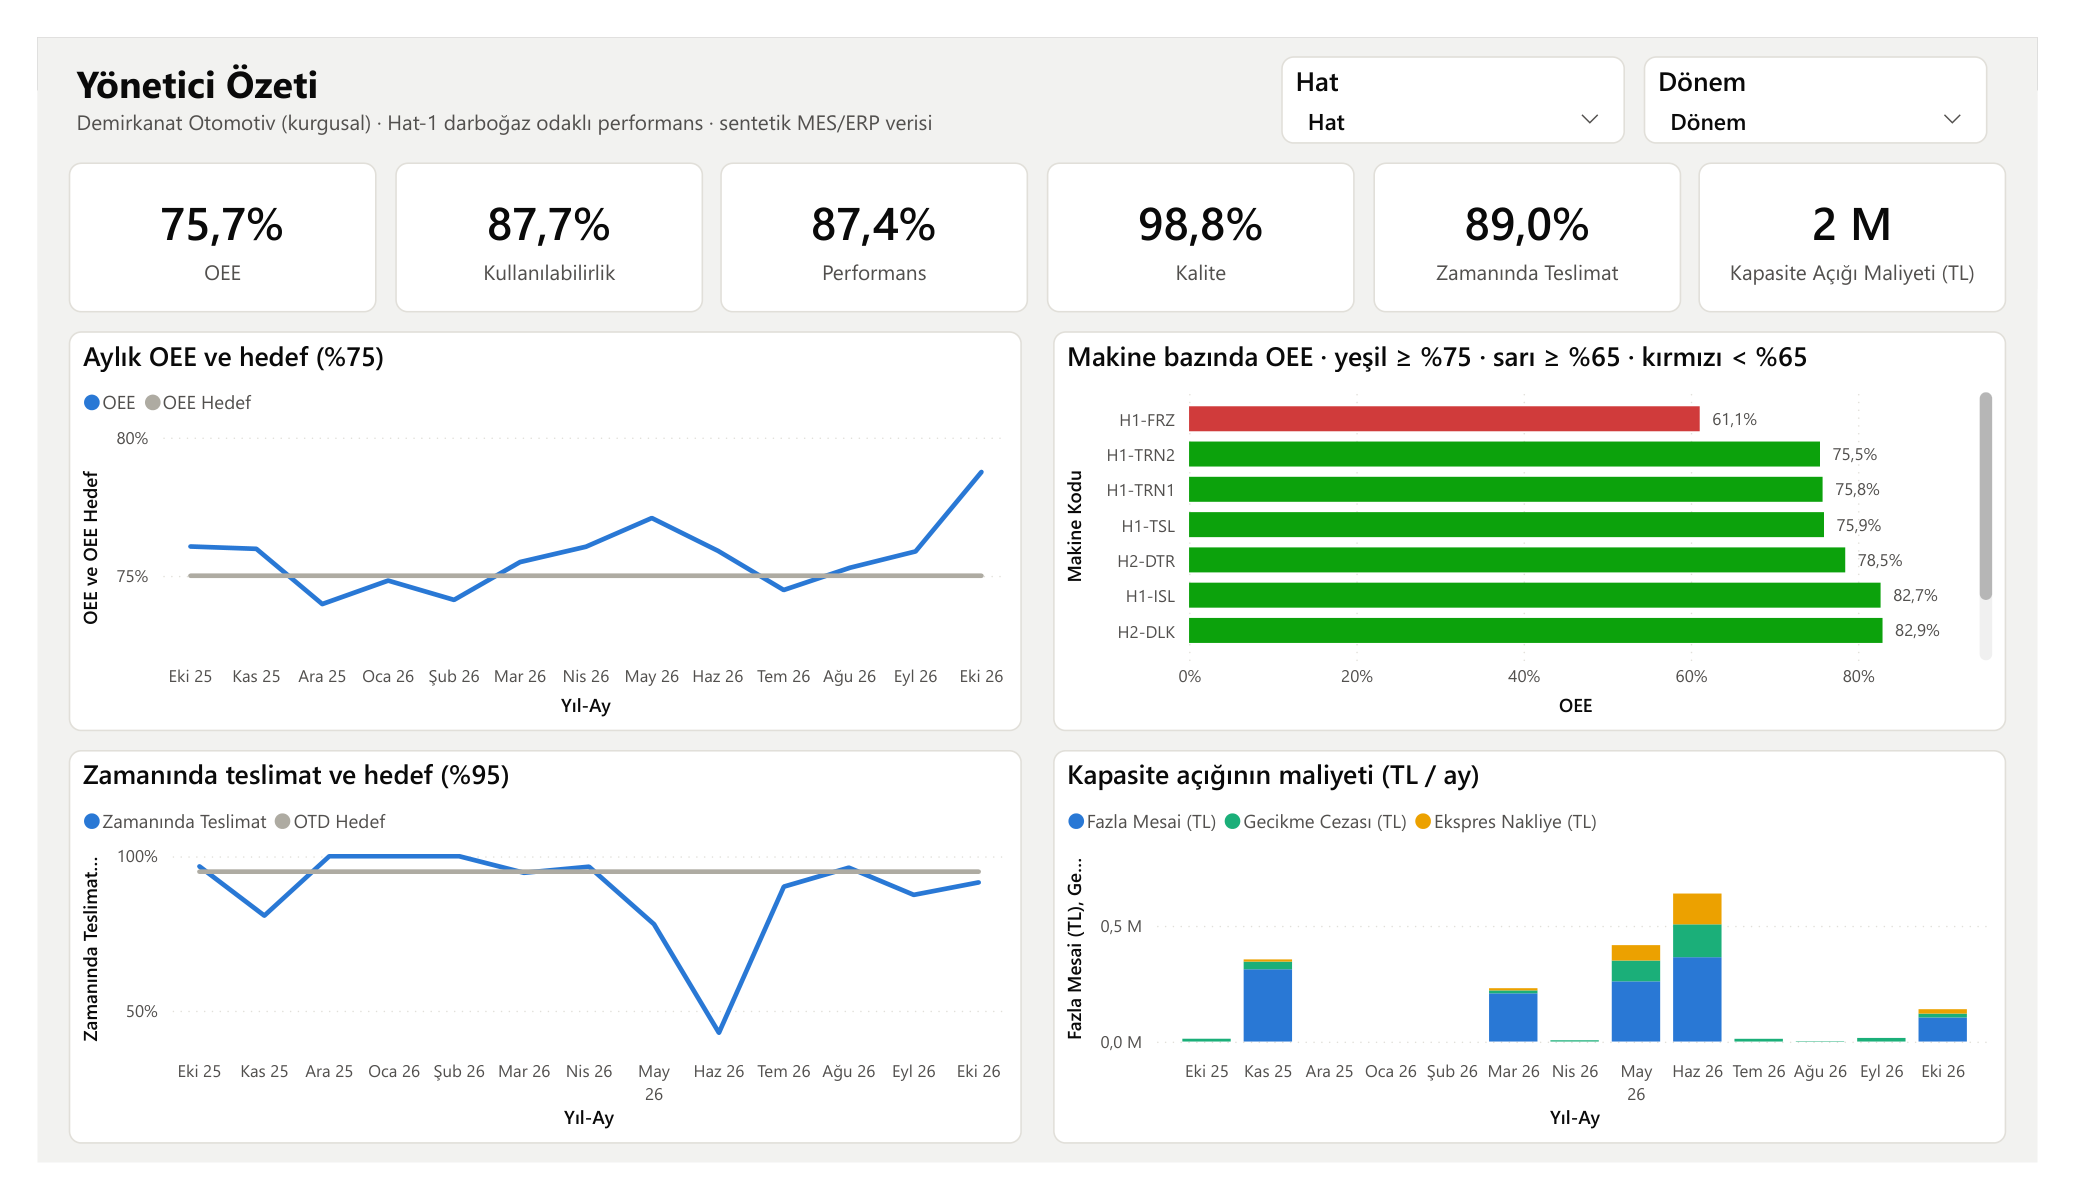

What the dashboard file says about the page in this screenshot:
{"tool":"powerbi","page":{"name":"Yönetici Özeti","canvas":[1280,720],"ordinal":0},"visuals":[{"type":"textbox","box":[20,8,760,60],"z":0},{"type":"slicer","title":"Hat","fields":{"Values":["DimUrun.Hat"]},"box":[796,12,220,56],"z":1000},{"type":"slicer","title":"Dönem","fields":{"Values":["DimTarih.Dönem"]},"box":[1028,12,220,56],"z":2000},{"type":"card","fields":{"Values":["_Ölçüler.OEE"]},"box":[20,80,197,96],"z":3000},{"type":"card","fields":{"Values":["_Ölçüler.Kullanılabilirlik"]},"box":[229,80,197,96],"z":4000},{"type":"card","fields":{"Values":["_Ölçüler.Performans"]},"box":[437,80,197,96],"z":5000},{"type":"card","fields":{"Values":["_Ölçüler.Kalite"]},"box":[646,80,197,96],"z":6000},{"type":"card","fields":{"Values":["_Ölçüler.Zamanında Teslimat"]},"box":[855,80,197,96],"z":7000},{"type":"card","fields":{"Values":["_Ölçüler.Kapasite Açığı Maliyeti (TL)"]},"box":[1063,80,197,96],"z":8000},{"type":"lineChart","title":"Aylık OEE ve hedef (%75)","fields":{"Category":["DimTarih.Yıl-Ay"],"Y":["_Ölçüler.OEE","_Ölçüler.OEE Hedef"]},"box":[20,188,610,256],"z":9000},{"type":"clusteredBarChart","title":"Makine bazında OEE · yeşil ≥ %75 · sarı ≥ %65 · kırmızı < %65","fields":{"Category":["DimMakine.Makine Kodu"],"Y":["_Ölçüler.OEE"]},"box":[650,188,610,256],"z":10000},{"type":"lineChart","title":"Zamanında teslimat ve hedef (%95)","fields":{"Category":["DimTarih.Yıl-Ay"],"Y":["_Ölçüler.Zamanında Teslimat","_Ölçüler.OTD Hedef"]},"box":[20,456,610,252],"z":11000},{"type":"columnChart","title":"Kapasite açığının maliyeti (TL / ay)","fields":{"Category":["DimTarih.Yıl-Ay"],"Y":["_Ölçüler.Fazla Mesai (TL)","_Ölçüler.Gecikme Cezası (TL)","_Ölçüler.Ekspres Nakliye (TL)"]},"box":[650,456,610,252],"z":12000}]}

Visuals, with their boxes on the page's 1280x720 design canvas (x1, y1, x2, y2). These are canvas units, not pixel positions in the 2075x1200 screenshot, which may show the page scaled, cropped or inside an application window:
textbox: pyautogui.locateOnScreen(20, 8, 780, 68)
"Hat" slicer: pyautogui.locateOnScreen(796, 12, 1016, 68)
"Dönem" slicer: pyautogui.locateOnScreen(1028, 12, 1248, 68)
card - _Ölçüler.OEE: pyautogui.locateOnScreen(20, 80, 217, 176)
card - _Ölçüler.Kullanılabilirlik: pyautogui.locateOnScreen(229, 80, 426, 176)
card - _Ölçüler.Performans: pyautogui.locateOnScreen(437, 80, 634, 176)
card - _Ölçüler.Kalite: pyautogui.locateOnScreen(646, 80, 843, 176)
card - _Ölçüler.Zamanında Teslimat: pyautogui.locateOnScreen(855, 80, 1052, 176)
card - _Ölçüler.Kapasite Açığı Maliyeti (TL): pyautogui.locateOnScreen(1063, 80, 1260, 176)
"Aylık OEE ve hedef (%75)" lineChart: pyautogui.locateOnScreen(20, 188, 630, 444)
"Makine bazında OEE · yeşil ≥ %75 · sarı ≥ %65 · kırmızı < %65" clusteredBarChart: pyautogui.locateOnScreen(650, 188, 1260, 444)
"Zamanında teslimat ve hedef (%95)" lineChart: pyautogui.locateOnScreen(20, 456, 630, 708)
"Kapasite açığının maliyeti (TL / ay)" columnChart: pyautogui.locateOnScreen(650, 456, 1260, 708)
